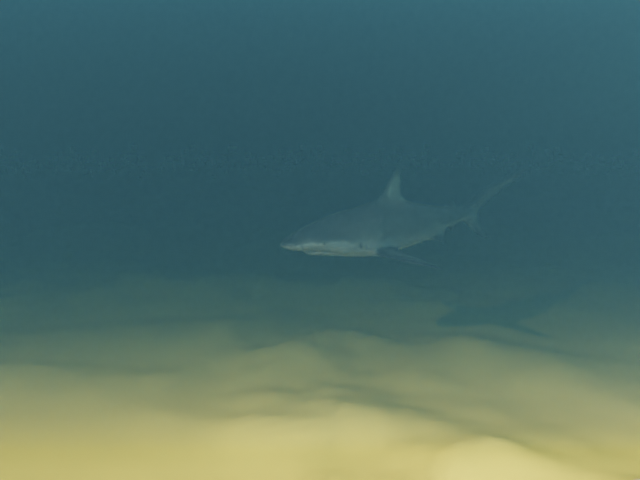Carribean Shark.001: (280, 167, 526, 269)
